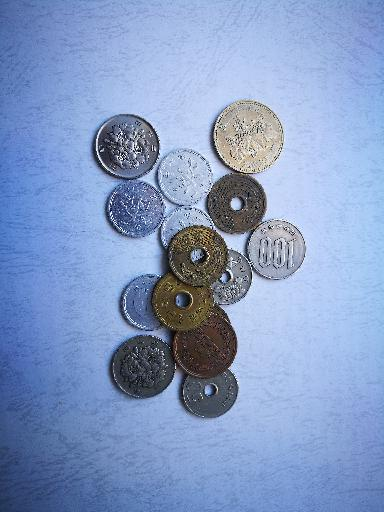100yen: (95, 115, 159, 178), (112, 335, 175, 398), (247, 220, 305, 279)
10yen: (173, 313, 237, 378)
1yen: (105, 180, 164, 238), (119, 274, 179, 330), (156, 148, 212, 206), (159, 206, 215, 262)
500yen: (212, 100, 284, 174)
50yen: (179, 366, 238, 418), (208, 248, 252, 305)
5yen: (166, 225, 227, 287), (151, 271, 214, 331), (207, 174, 267, 235)
